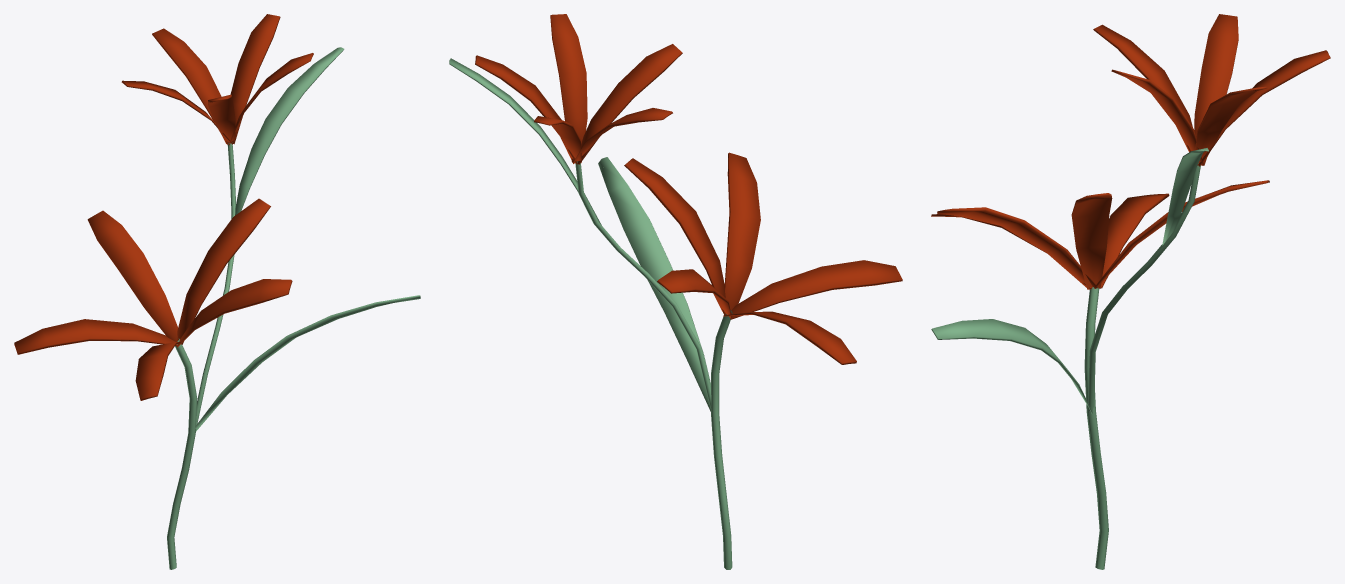
The model's file is OrangeFlower.fbx.
The picture shows the model from 3 angles, left to right: view 1: azimuth 30°, elevation 25°; view 2: azimuth 150°, elevation 25°; view 3: azimuth 270°, elevation 25°; orthographic projection. The views are drawn at different scales.
Parts seen in each view (by area): view 1: Plane, Plane.001, Plane.003, NurbsPath, Plane.002, NurbsPath.001; view 2: Plane, Plane.001, Plane.002, NurbsPath, NurbsPath.001, Plane.003; view 3: Plane.001, Plane, NurbsPath, Plane.002, NurbsPath.001, Plane.003.
Part boxes in pixels (<box>): Plane: <box>14,198,292,400</box>; Plane.001: <box>121,14,313,145</box>; Plane.003: <box>235,47,344,215</box>; NurbsPath: <box>167,338,197,569</box>; Plane.002: <box>195,295,420,431</box>; NurbsPath.001: <box>196,142,235,429</box>; Plane: <box>624,152,902,364</box>; Plane.001: <box>475,14,682,164</box>; Plane.002: <box>598,157,710,411</box>; NurbsPath: <box>711,310,732,569</box>; NurbsPath.001: <box>575,161,711,408</box>; Plane.003: <box>449,58,601,225</box>; Plane.001: <box>1093,14,1330,166</box>; Plane: <box>931,180,1269,289</box>; NurbsPath: <box>1084,287,1108,569</box>; Plane.002: <box>931,319,1092,413</box>; NurbsPath.001: <box>1088,163,1200,411</box>; Plane.003: <box>1162,148,1208,245</box>.
Bounding box in the file's own units: 207 × 268 × 166.
